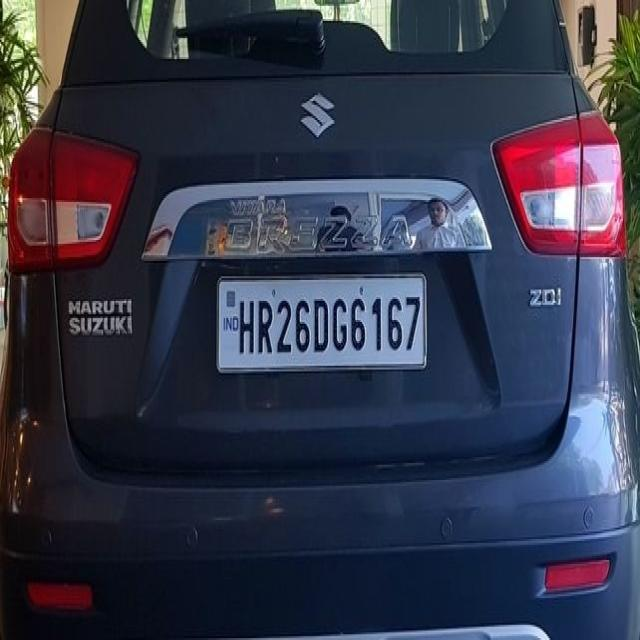number_plate: (215, 278, 426, 356)
